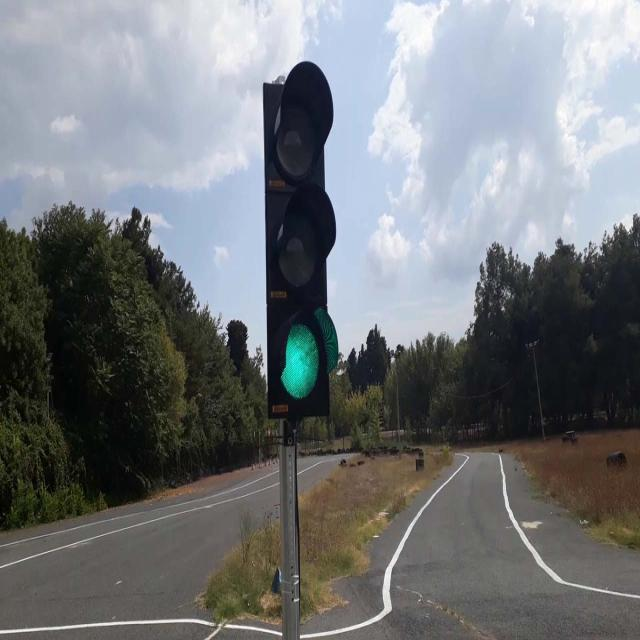yesil: (262, 62, 338, 415)
